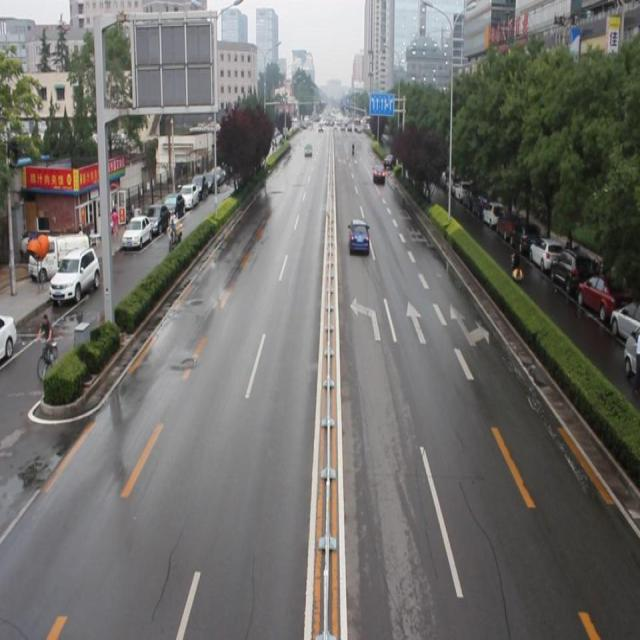car: (347, 218, 369, 254), (372, 164, 384, 183)
